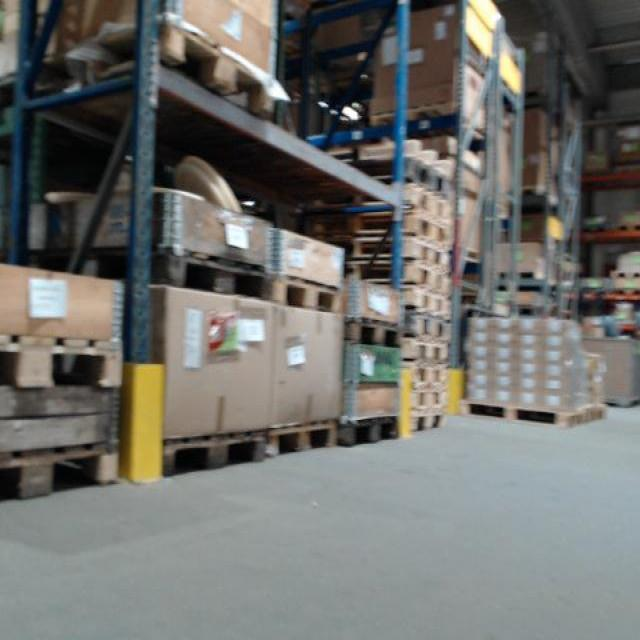pallet: (29, 10, 278, 117), (0, 441, 121, 505), (0, 330, 126, 391), (150, 245, 276, 302), (162, 429, 270, 479), (313, 214, 448, 245), (461, 398, 584, 429), (349, 237, 449, 271), (356, 163, 454, 197), (272, 273, 344, 318), (352, 263, 453, 294), (268, 420, 340, 463), (340, 413, 399, 447), (344, 319, 401, 350), (402, 186, 450, 220), (405, 313, 450, 341), (405, 289, 452, 314), (407, 338, 449, 362), (410, 387, 450, 411), (410, 411, 448, 434), (412, 364, 450, 387), (613, 223, 640, 231), (610, 271, 640, 278)
stillage: (577, 329, 640, 416)
